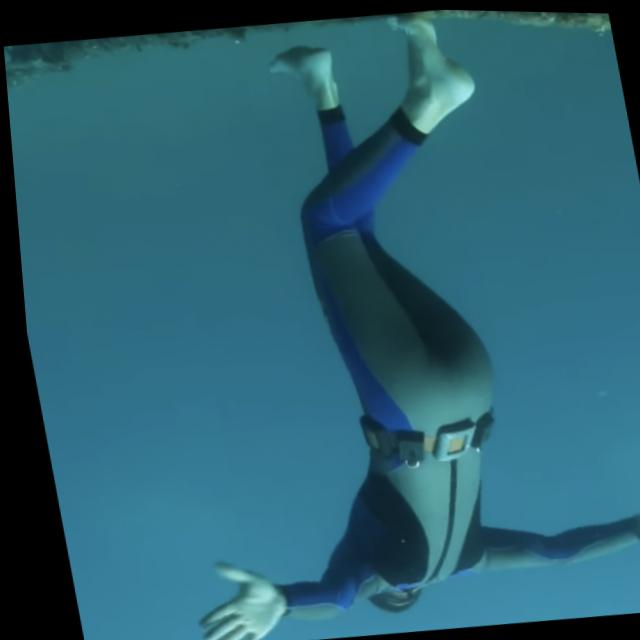human: (83, 1, 640, 640)
